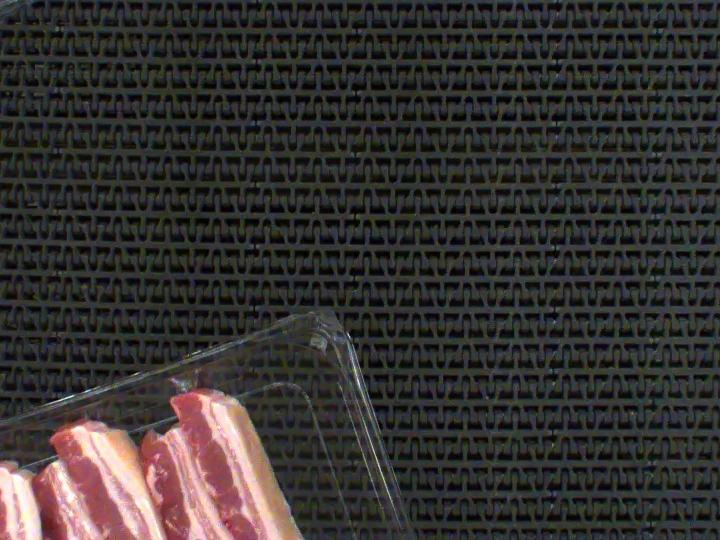packaging-error: (159, 363, 211, 397)
